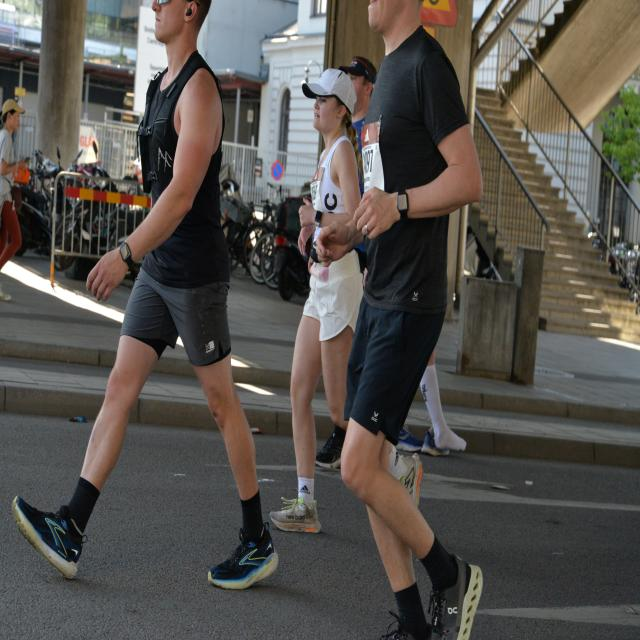runner-detect: (19, 1, 277, 586), (343, 13, 505, 638), (273, 61, 367, 542)
